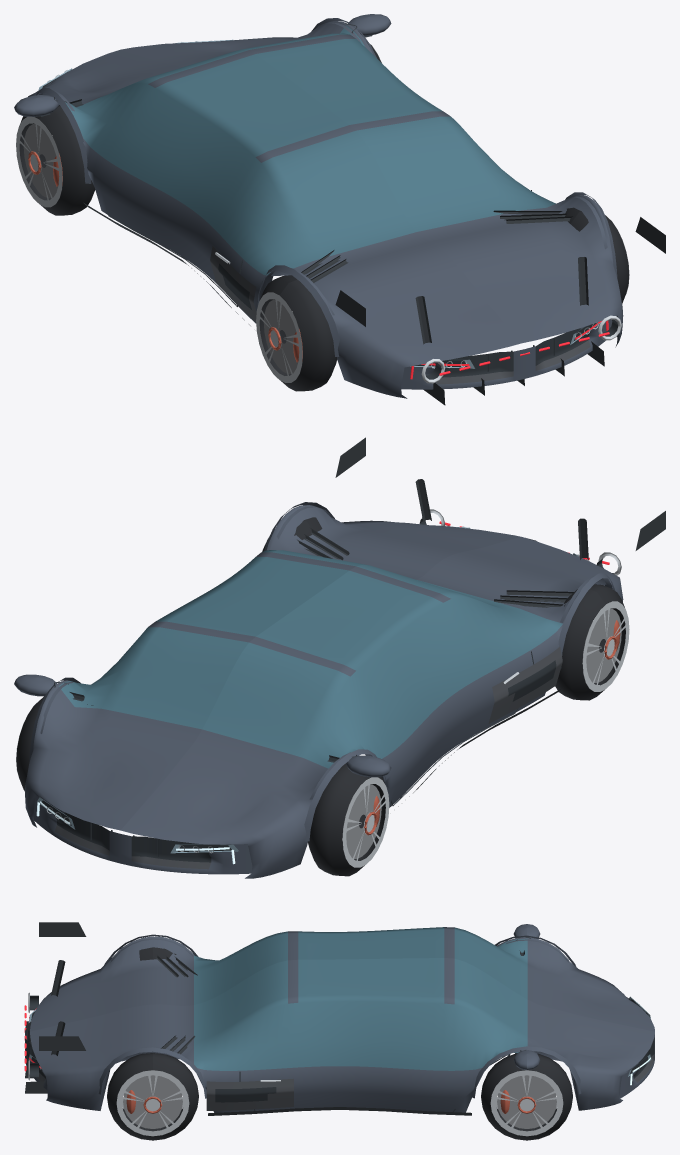
File: nebula_r_low.glb
3 renders of one model, top to bottom at view 1: azimuth 30°, elevation 25°; view 2: azimuth 150°, elevation 25°; view 3: azimuth 270°, elevation 25°, orthographic. The views are drawn at different scales.
Parts seen in each view (by area): view 1: Body, Wheel_2, Wheel_0, Wheel_3; view 2: Body, Wheel_0, Wheel_2, Wheel_1; view 3: Body, Wheel_3, Wheel_1, Wheel_2.
Boxes of the visible parts, bbox=[...] form: Body: bbox=[14, 14, 665, 405]; Wheel_2: bbox=[256, 275, 337, 391]; Wheel_0: bbox=[16, 106, 95, 215]; Wheel_3: bbox=[565, 207, 629, 303]; Body: bbox=[14, 437, 665, 878]; Wheel_0: bbox=[308, 763, 389, 876]; Wheel_2: bbox=[555, 584, 629, 700]; Wheel_1: bbox=[16, 696, 44, 791]; Body: bbox=[24, 922, 654, 1115]; Wheel_3: bbox=[107, 1053, 198, 1140]; Wheel_1: bbox=[481, 1053, 572, 1140]; Wheel_2: bbox=[139, 947, 176, 960].
Bounding box in the file's own units: 2.63 × 1.08 × 5.09.
